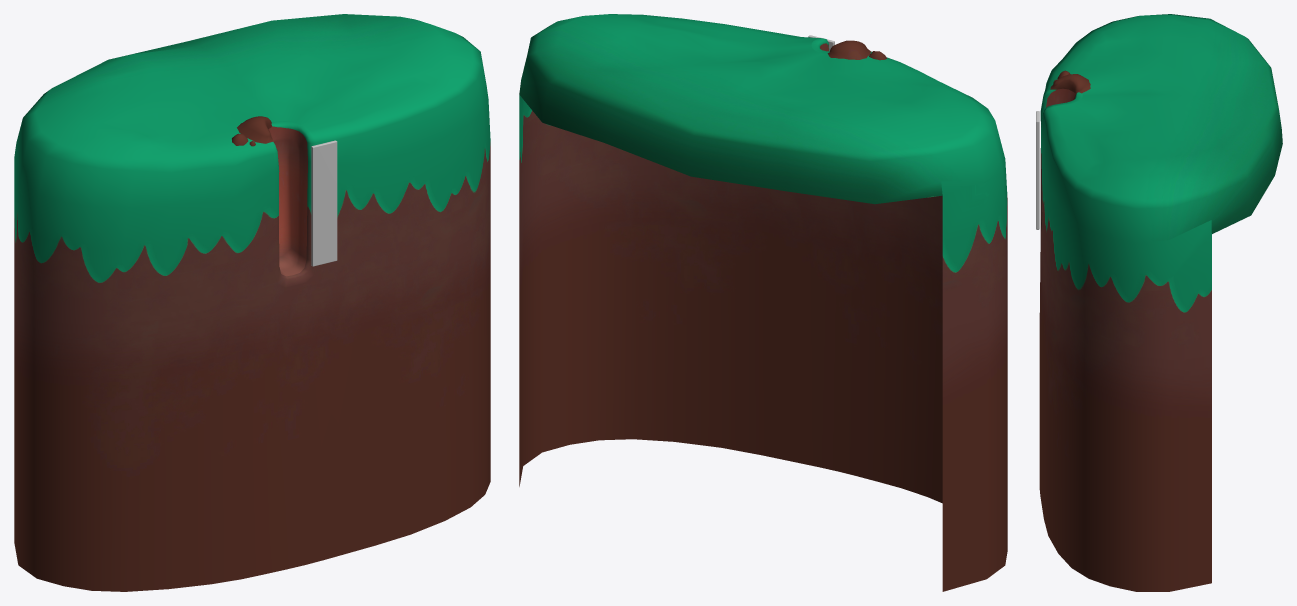
File: Land_End_Land_Only.fbx
The picture shows the model from 3 angles, left to right: view 1: azimuth 30°, elevation 25°; view 2: azimuth 150°, elevation 25°; view 3: azimuth 270°, elevation 25°; orthographic projection. The views are drawn at different scales.
Parts seen in each view (by area): view 1: Land_End, Multiply_Object; view 2: Land_End; view 3: Land_End, Multiply_Object.
Part boxes in pixels (x1,y1,x2,y2): Land_End: [14, 14, 490, 591]; Multiply_Object: [311, 140, 337, 266]; Land_End: [519, 14, 1007, 591]; Land_End: [1039, 14, 1282, 591]; Multiply_Object: [1036, 111, 1039, 229].
Size of the model in its own units: 270 by 251 by 141.
